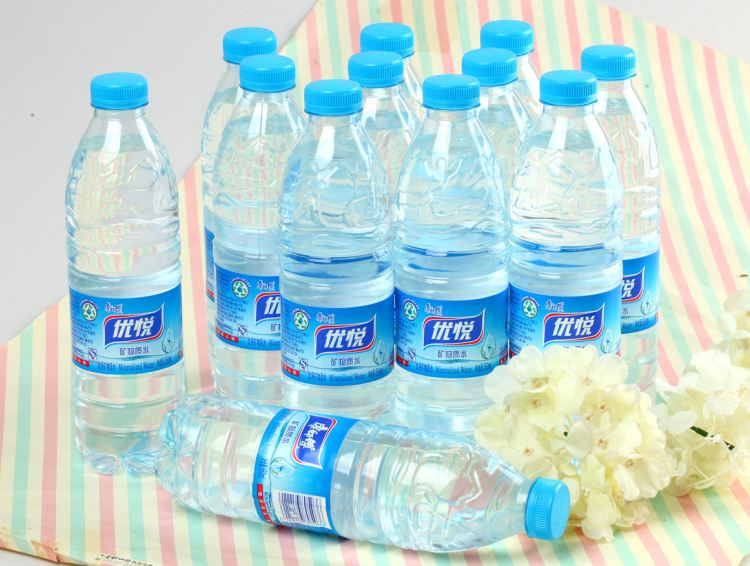amwater: (205, 22, 684, 452), (165, 392, 598, 557), (61, 70, 194, 496)
